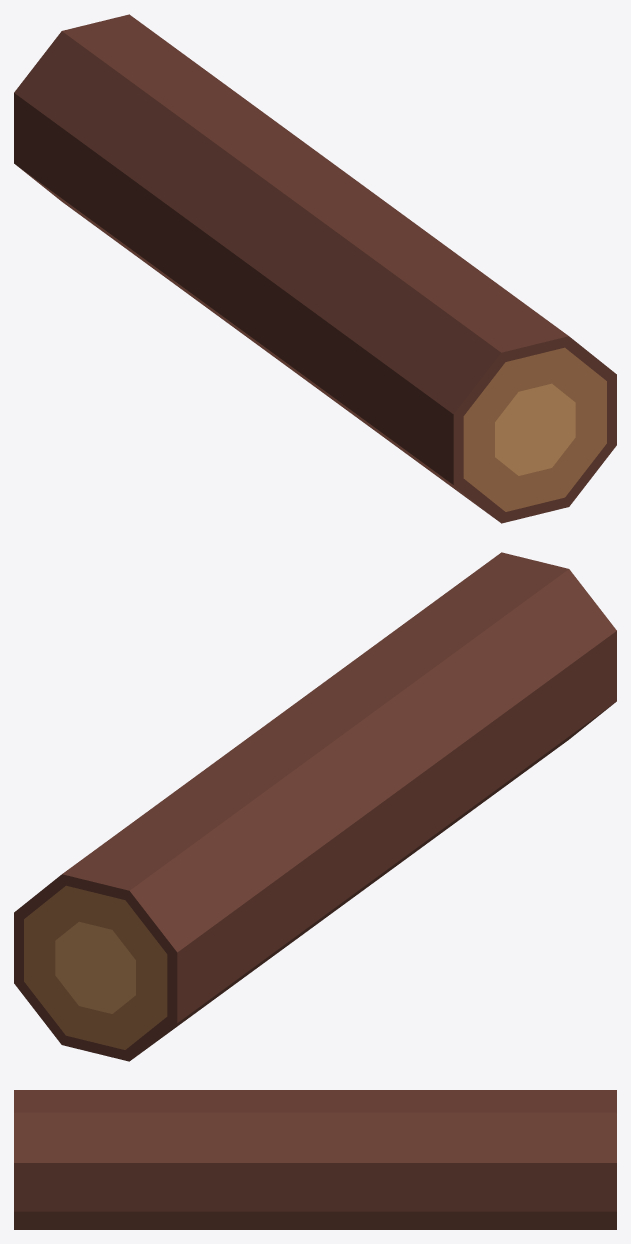
Rendered from wood.fbx.
3 renders of one model, top to bottom at view 1: azimuth 30°, elevation 25°; view 2: azimuth 150°, elevation 25°; view 3: azimuth 270°, elevation 25°, orthographic. The views are drawn at different scales.
Parts seen in each view (by area): view 1: Deck; view 2: Deck; view 3: Deck.
Boxes of the visible parts, <box> form: Deck: <box>14,14,616,523</box>; Deck: <box>14,552,616,1061</box>; Deck: <box>14,1090,616,1229</box>.
Size of the model in its own units: 25.25 by 25.25 by 118.
